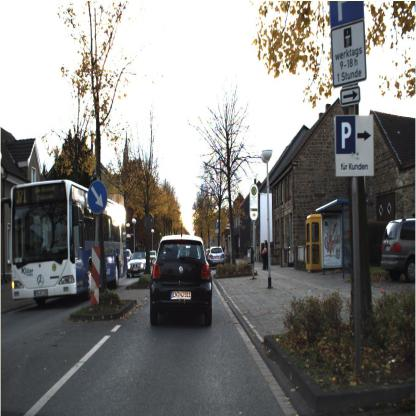mandatory: (85, 176, 109, 219)
